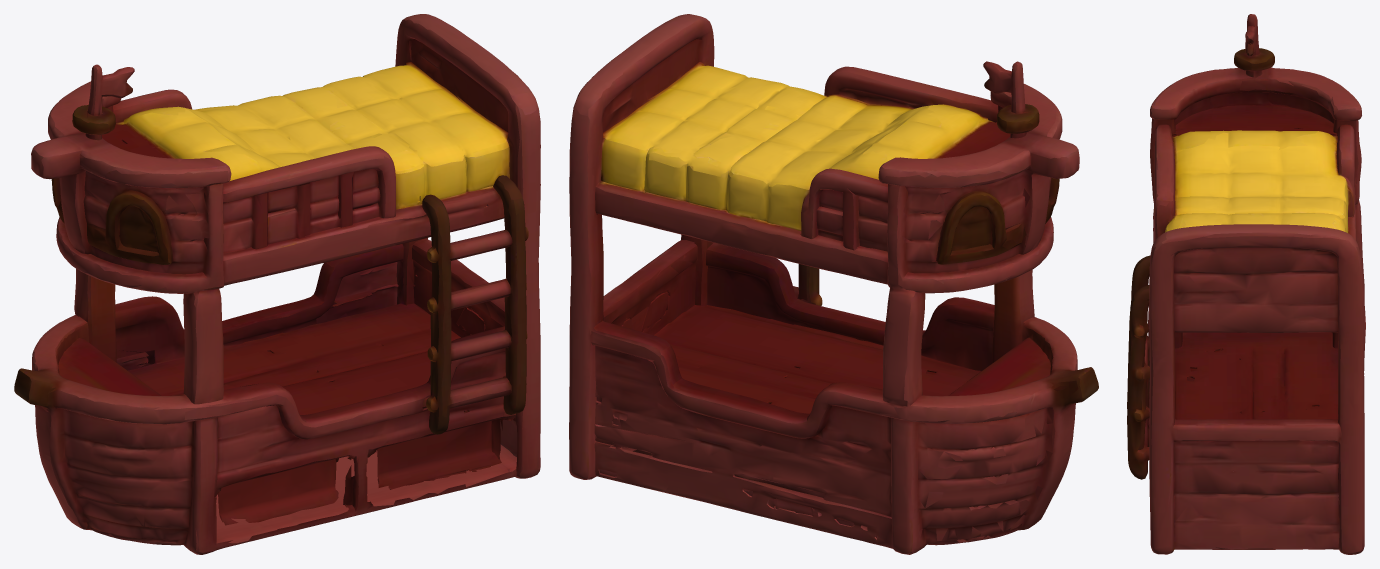
3 renders of one model, left to right at view 1: azimuth 30°, elevation 25°; view 2: azimuth 150°, elevation 25°; view 3: azimuth 270°, elevation 25°, orthographic. The views are drawn at different scales.
Visible parts, largest first — view 1: geometry_0; view 2: geometry_0; view 3: geometry_0.
Part boxes in pixels (x1,y1,x2,y2): geometry_0: [14, 14, 540, 554]; geometry_0: [569, 14, 1098, 554]; geometry_0: [1127, 14, 1365, 554].
Size of the model in its own units: 2.2 by 2.11 by 1.18.
1 material, 1 textured.
